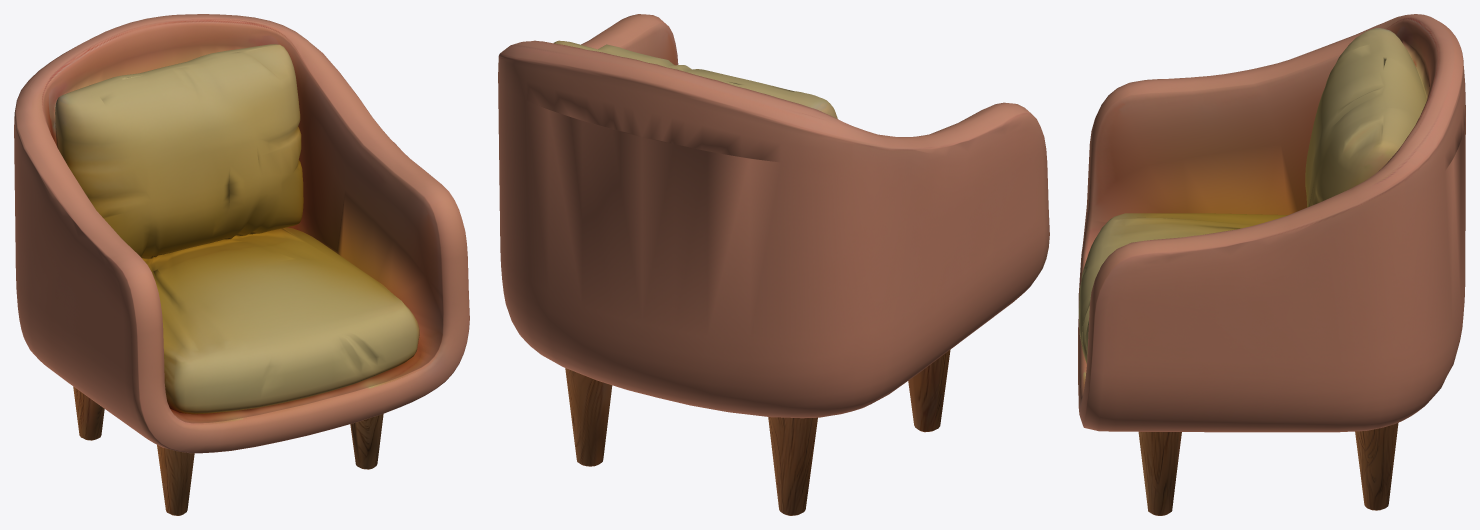
3 renders of one model, left to right at view 1: azimuth 30°, elevation 25°; view 2: azimuth 150°, elevation 25°; view 3: azimuth 270°, elevation 25°, orthographic. The views are drawn at different scales.
Visible parts, largest first — view 1: texture_pbr_v128; view 2: texture_pbr_v128; view 3: texture_pbr_v128.
Boxes of the visible parts, x1,y1,x2,y2 form: texture_pbr_v128: (14, 14, 469, 515); texture_pbr_v128: (498, 14, 1049, 515); texture_pbr_v128: (1078, 14, 1465, 515).
Size of the model in its own units: 85.68 by 91.26 by 78.8.
1 material, 1 textured.
